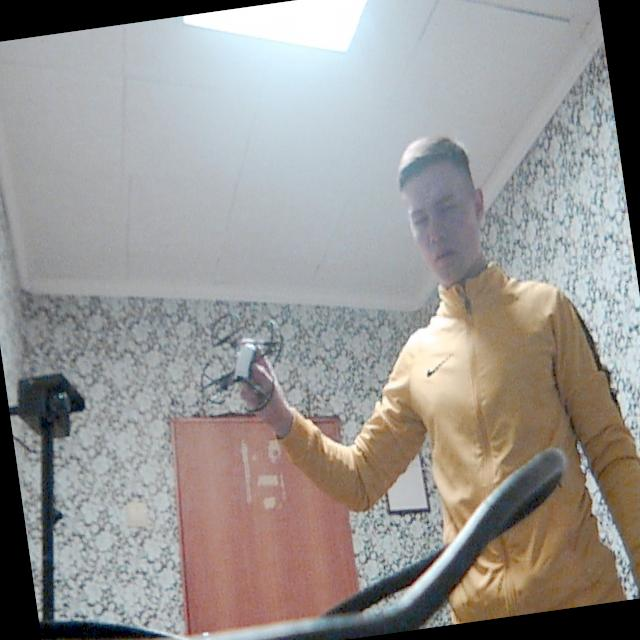drone: (178, 291, 308, 426)
